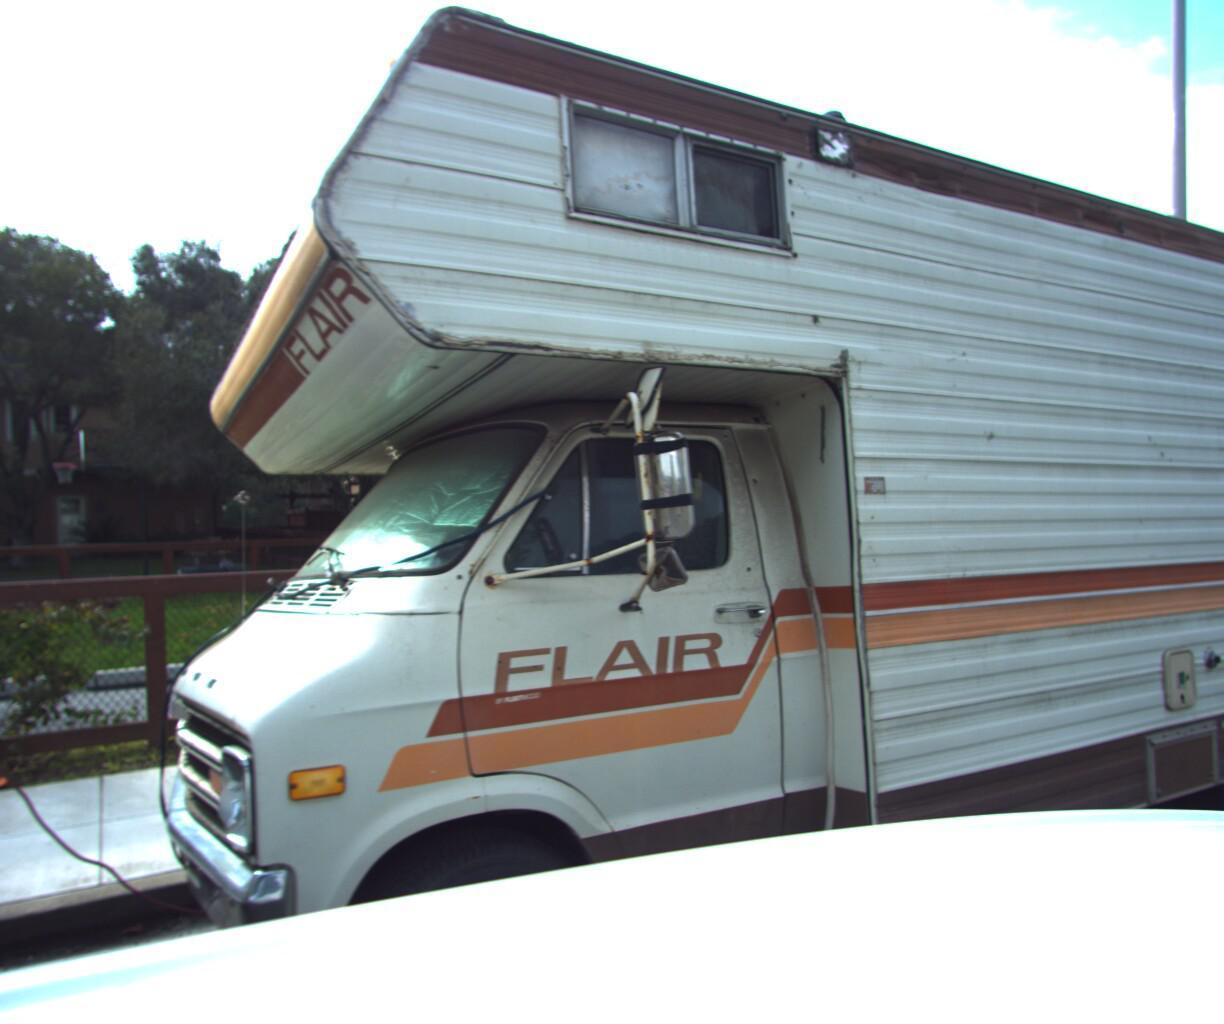other_vehicle: (114, 0, 1224, 1024)
